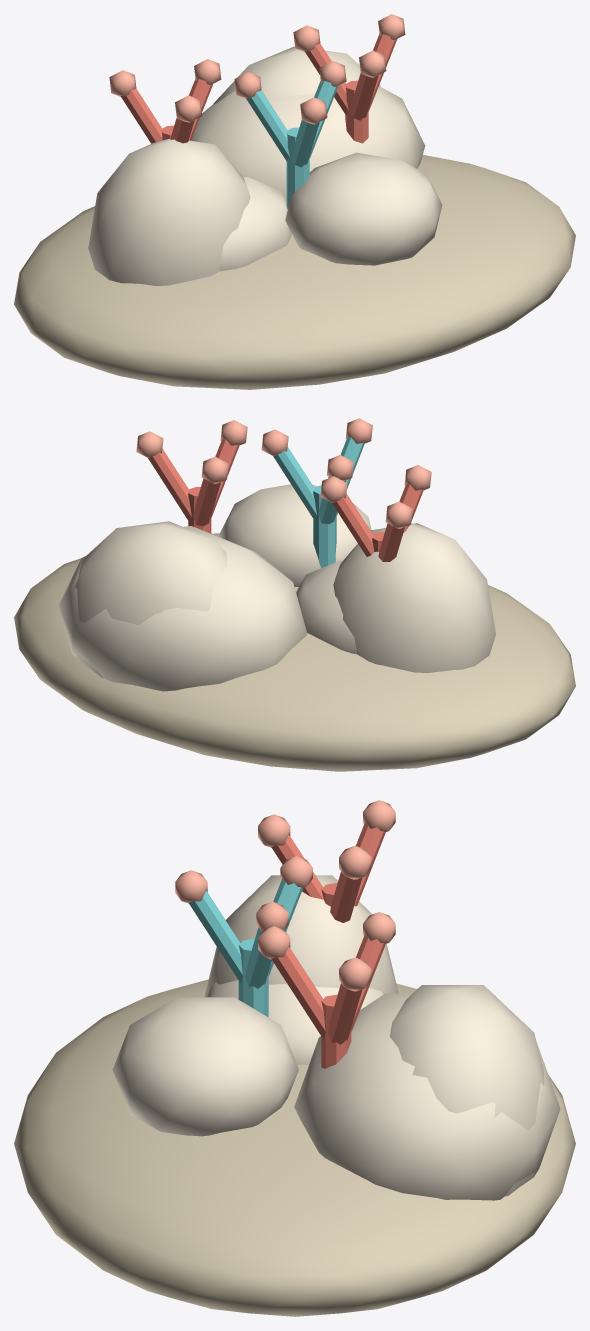
The model's file is reef-02.glb.
3 renders of one model, top to bottom at view 1: azimuth 30°, elevation 25°; view 2: azimuth 150°, elevation 25°; view 3: azimuth 270°, elevation 25°, orthographic. The views are drawn at different scales.
Visible parts, largest first — view 1: Sculpted reef base, Reef rock.001, Reef rock.002, Reef rock, Reef rock.004, Reef rock.003, Coral crown.004, Coral crown.001, Coral stem.001, Coral crown.005, Coral crown.008, Coral stem.002 (+13 smaller); view 2: Sculpted reef base, Reef rock, Reef rock.001, Reef rock.003, Reef rock.002, Reef rock.004, Coral stem.001, Coral crown.006, Coral crown.003, Coral crown, Coral crown.007, Coral crown.001 (+11 smaller); view 3: Sculpted reef base, Reef rock, Reef rock.002, Reef rock.003, Reef rock.001, Reef rock.004, Coral crown.005, Coral crown.008, Coral crown.006, Coral stem.001, Coral stem.002, Coral crown (+14 smaller).
Part boxes in pixels (x1,y1,x2,y2): Sculpted reef base: (14,155,575,389); Reef rock.001: (88,138,250,285); Reef rock.002: (285,152,442,265); Reef rock: (191,86,425,199); Reef rock.004: (219,176,291,271); Reef rock.003: (213,46,380,104); Coral crown.004: (246,90,290,162); Coral crown.001: (120,88,162,143); Coral stem.001: (286,127,309,209); Coral crown.005: (291,120,319,167); Coral crown.008: (350,73,378,120); Coral stem.002: (345,80,368,143); Sculpted reef base: (14,533,575,771); Reef rock: (58,526,307,691); Reef rock.001: (333,523,495,672); Reef rock.003: (75,521,227,678); Reef rock.002: (219,484,371,586); Reef rock.004: (296,560,356,653); Coral stem.001: (313,485,336,567); Coral crown.006: (148,448,191,521); Coral crown.003: (273,447,316,520); Coral crown: (332,493,374,556); Coral crown.007: (193,478,220,526); Coral crown.001: (378,523,404,561); Sculpted reef base: (14,979,575,1316); Reef rock: (294,993,560,1200); Reef rock.002: (112,997,298,1136); Reef rock.003: (390,985,544,1196); Reef rock.001: (204,875,398,997); Reef rock.004: (207,980,383,1064); Coral crown.005: (188,891,242,983); Coral crown.008: (271,947,325,1039); Coral crown.006: (327,983,362,1044); Coral stem.001: (238,938,268,1017); Coral stem.002: (321,994,351,1068); Coral crown: (330,871,362,922).
Bounding box in the file's own units: 2.7 × 1.34 × 2.04.
